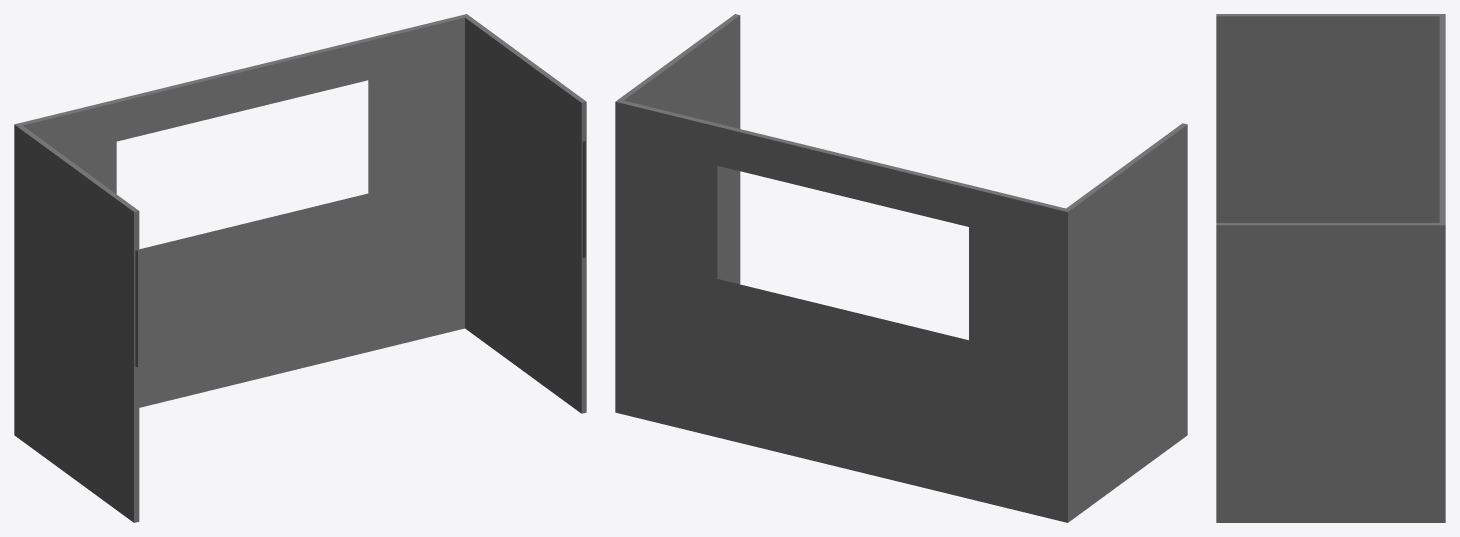
The model's file is Wall.gltf.
3 renders of one model, left to right at view 1: azimuth 30°, elevation 25°; view 2: azimuth 150°, elevation 25°; view 3: azimuth 270°, elevation 25°, orthographic. The views are drawn at different scales.
Visible parts, largest first — view 1: 立方体.001; view 2: 立方体.001; view 3: 立方体.001.
Boxes of the visible parts, x1,y1,x2,y2 form: 立方体.001: (14, 14, 586, 522); 立方体.001: (615, 14, 1187, 522); 立方体.001: (1216, 14, 1445, 522).
Bounding box in the file's own units: 32 × 21 × 14.68.
3 materials, 3 textured.
